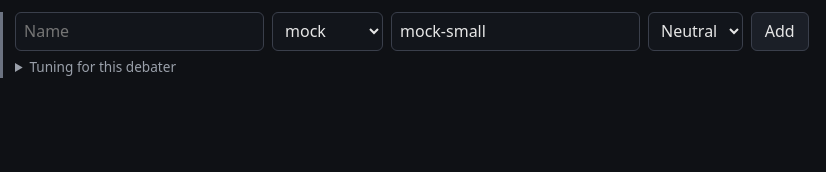
per-debater scope cues › follows the name as it is typed, so the scope is never stale
The image size is (826, 172).
Step 1. Type "Grace" into the field named "participant name" → {"x": 140, "y": 31}, box [15,12,264,51]
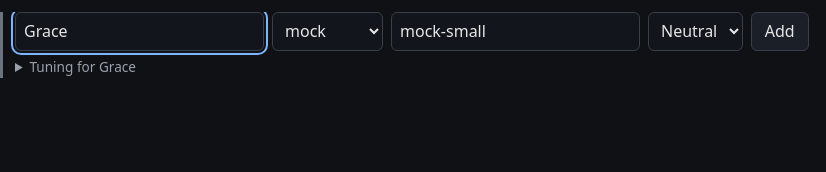
Expected: the heading "Tuning for Grace" is shown, [29,57,136,76]
Expected: the heading "Tuning for this debater" is gone
